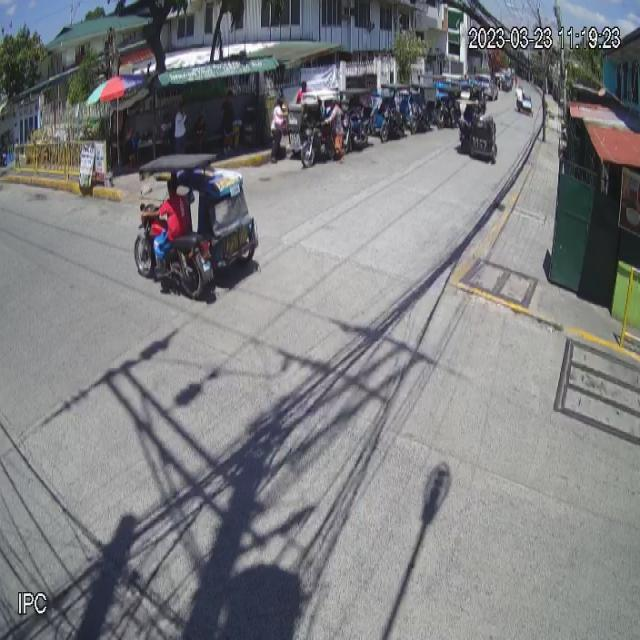Tricycle: (134, 154, 260, 300)
